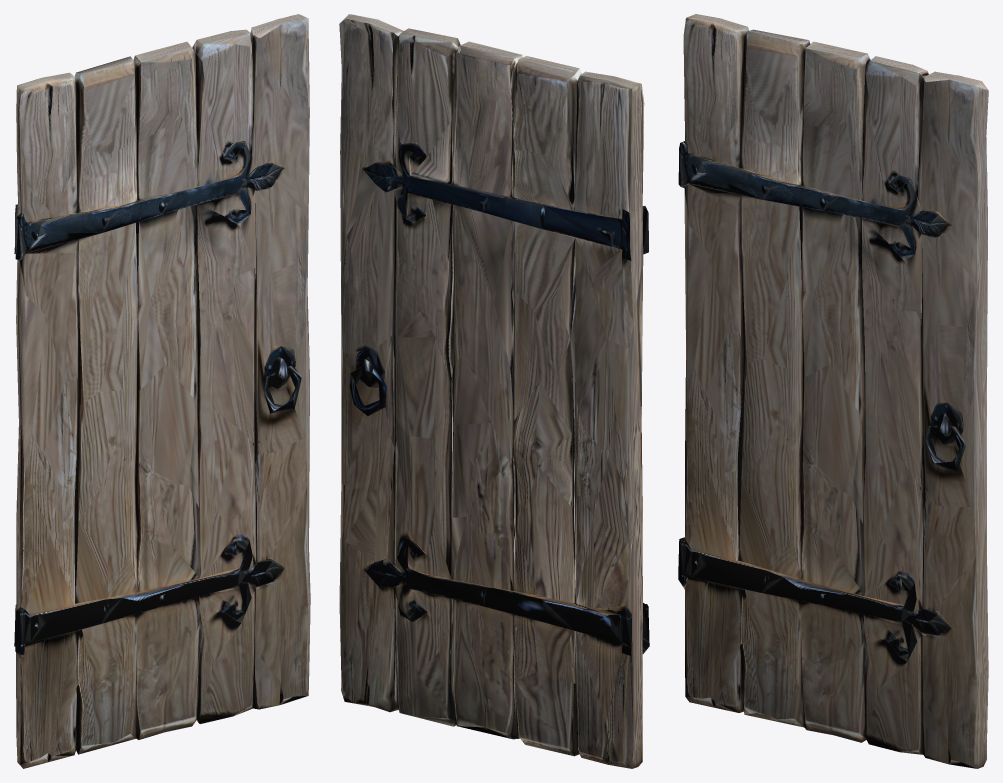
Rendered from PlankDoor.glb.
3 renders of one model, left to right at view 1: azimuth 30°, elevation 25°; view 2: azimuth 150°, elevation 25°; view 3: azimuth 330°, elevation 25°, orthographic.
Visible parts, largest first — view 1: PlankDoor; view 2: PlankDoor; view 3: PlankDoor.
Part boxes in pixels (x1,y1,x2,y2): PlankDoor: [14, 14, 310, 768]; PlankDoor: [339, 14, 649, 768]; PlankDoor: [678, 14, 988, 768].
Size of the model in its own units: 0.894 by 1.94 by 0.08.
1 material, 1 textured.
